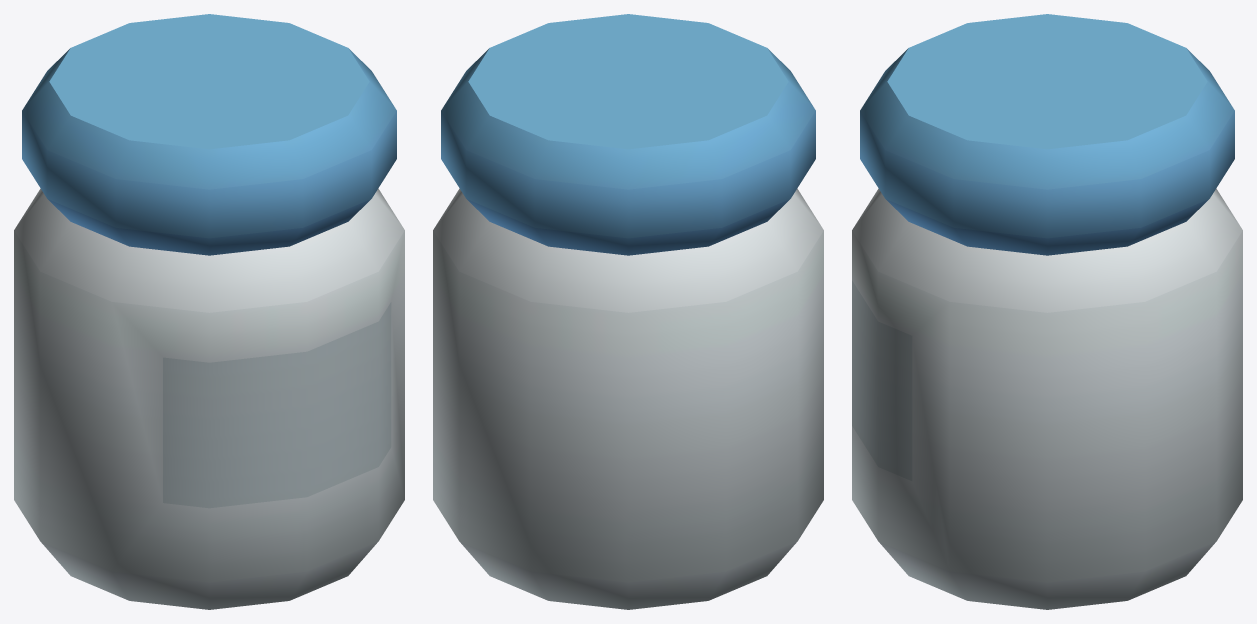
Rendered from kaykit-jar-set-a.glb.
3 views of the same model, side by side, from view 1: azimuth 30°, elevation 25°; view 2: azimuth 150°, elevation 25°; view 3: azimuth 270°, elevation 25° (orthographic).
Visible parts, largest first — view 1: jar_A_medium; view 2: jar_A_medium; view 3: jar_A_medium.
Part boxes in pixels (x1,y1,x2,y2): jar_A_medium: [14, 14, 404, 609]; jar_A_medium: [433, 14, 823, 609]; jar_A_medium: [852, 14, 1242, 609].
Size of the model in its own units: 0.5 by 0.65 by 0.5.
Materials: 1 (1 with a texture image).
